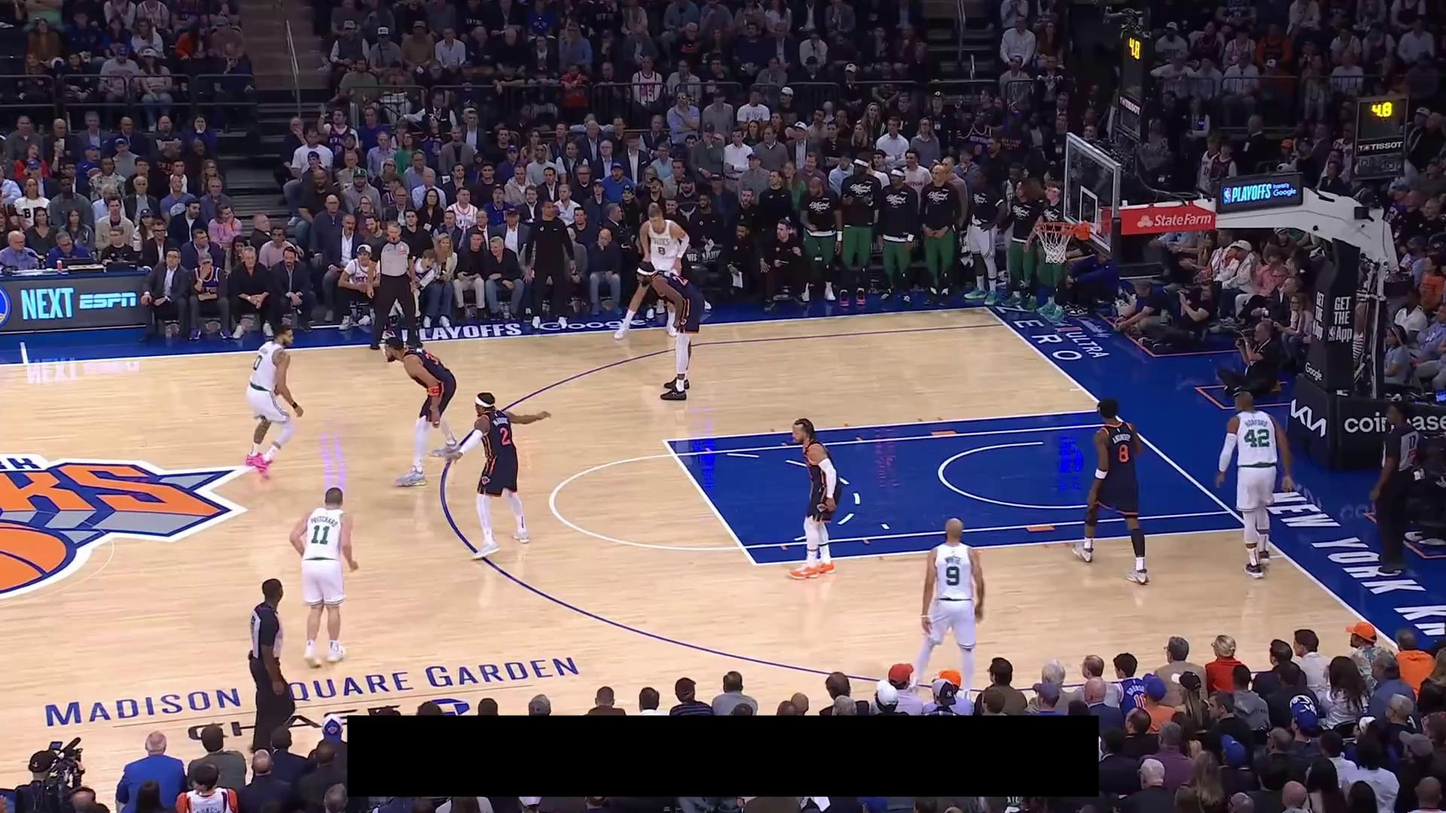number: (1244, 428, 1271, 448), (311, 524, 330, 545), (945, 565, 960, 586), (1118, 443, 1130, 463), (499, 427, 510, 446), (252, 353, 262, 371), (657, 245, 667, 257)
player: (444, 389, 557, 562), (1213, 388, 1297, 580), (1071, 394, 1152, 586), (904, 515, 988, 699), (288, 485, 360, 670), (383, 336, 463, 489), (611, 206, 694, 343), (624, 260, 704, 402), (243, 321, 305, 480), (786, 416, 844, 581)
referee: (246, 577, 296, 756), (1368, 402, 1420, 573), (368, 221, 423, 351)
rim: (1033, 221, 1078, 234)
